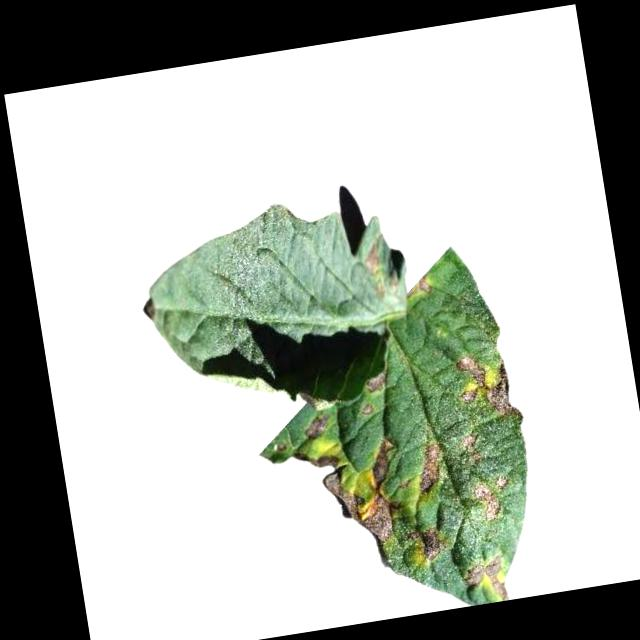Early_blight: (316, 436, 413, 553), (453, 345, 525, 428), (461, 553, 512, 606), (360, 236, 400, 299), (469, 474, 512, 523), (411, 441, 445, 496), (296, 447, 342, 473), (418, 525, 445, 561), (403, 270, 433, 301), (301, 411, 330, 440), (462, 429, 483, 468), (362, 371, 388, 393), (359, 401, 378, 416)
